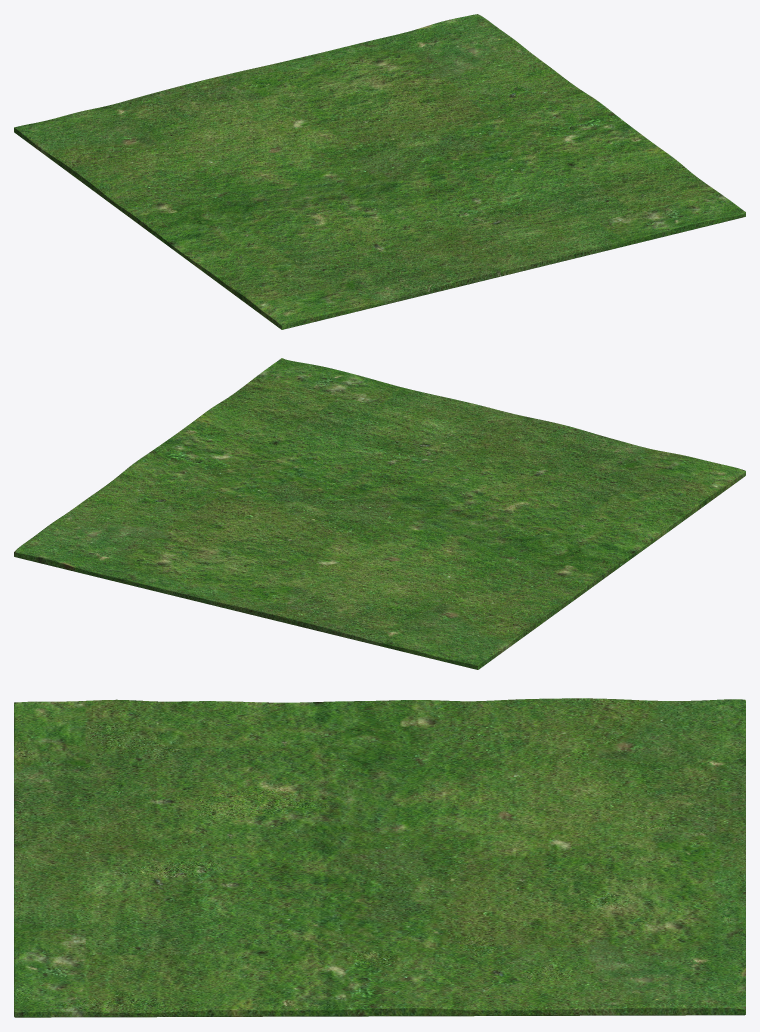
Rendered from pasto.glb.
The picture shows the model from 3 angles, top to bottom: view 1: azimuth 30°, elevation 25°; view 2: azimuth 150°, elevation 25°; view 3: azimuth 270°, elevation 25°; orthographic projection. The views are drawn at different scales.
Visible parts, largest first — view 1: 10450_Rectangular_Grass_Patch_v1_iterations-2.001; view 2: 10450_Rectangular_Grass_Patch_v1_iterations-2.001; view 3: 10450_Rectangular_Grass_Patch_v1_iterations-2.001.
Part boxes in pixels (x1,y1,x2,y2): 10450_Rectangular_Grass_Patch_v1_iterations-2.001: (14,14,745,329); 10450_Rectangular_Grass_Patch_v1_iterations-2.001: (14,358,745,669); 10450_Rectangular_Grass_Patch_v1_iterations-2.001: (14,698,745,1017).
Bounding box in the file's own units: 787 × 13.91 × 787.
1 material, 1 textured.
